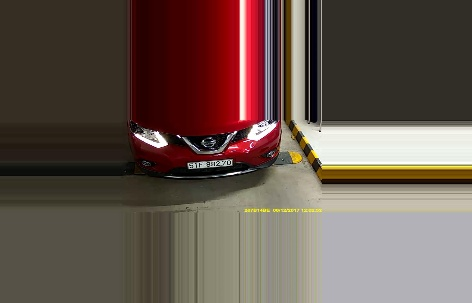plate: (186, 157, 236, 169)
